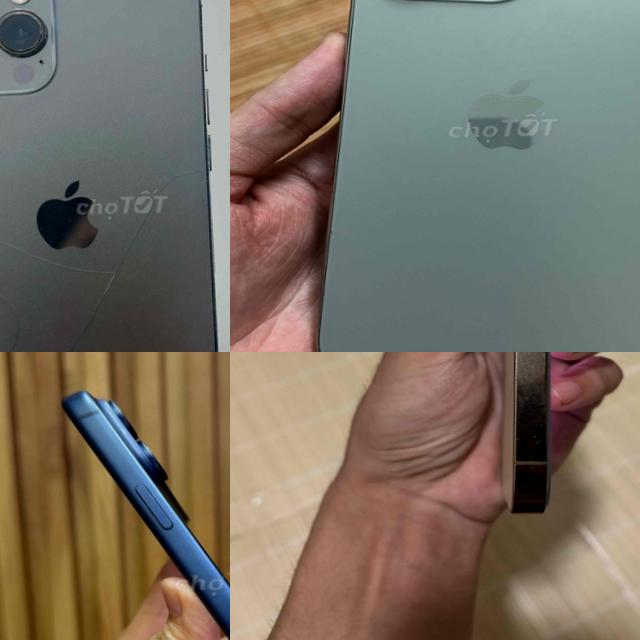gen_12_13: (0, 0, 230, 352)
gen_14: (465, 352, 577, 528)
gen_15: (298, 0, 640, 352)
gen_17: (55, 364, 230, 640)
physical_damage: (0, 160, 204, 352)
scratch: (522, 428, 558, 478)
